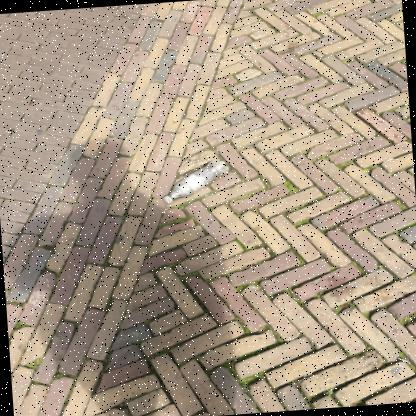Clear plastic bottle: (163, 159, 229, 204)
Plastic bottle cap: (163, 196, 172, 204)
Unlabeled litter: (398, 358, 411, 363)
